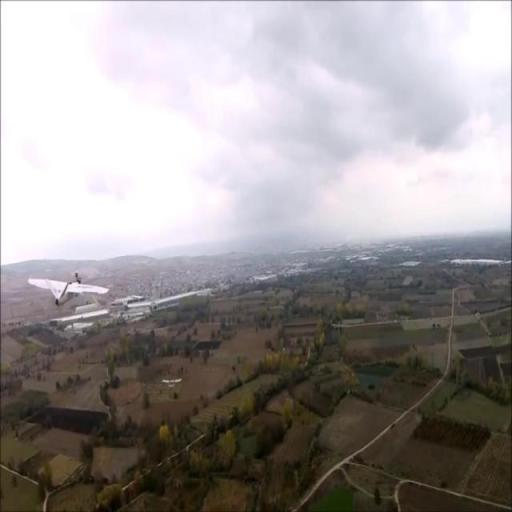uav: (27, 274, 110, 306)
